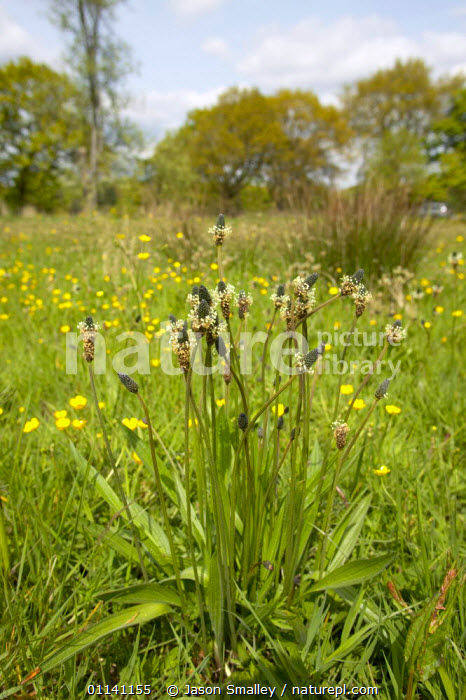buckhorn plantain: (114, 218, 374, 678)
